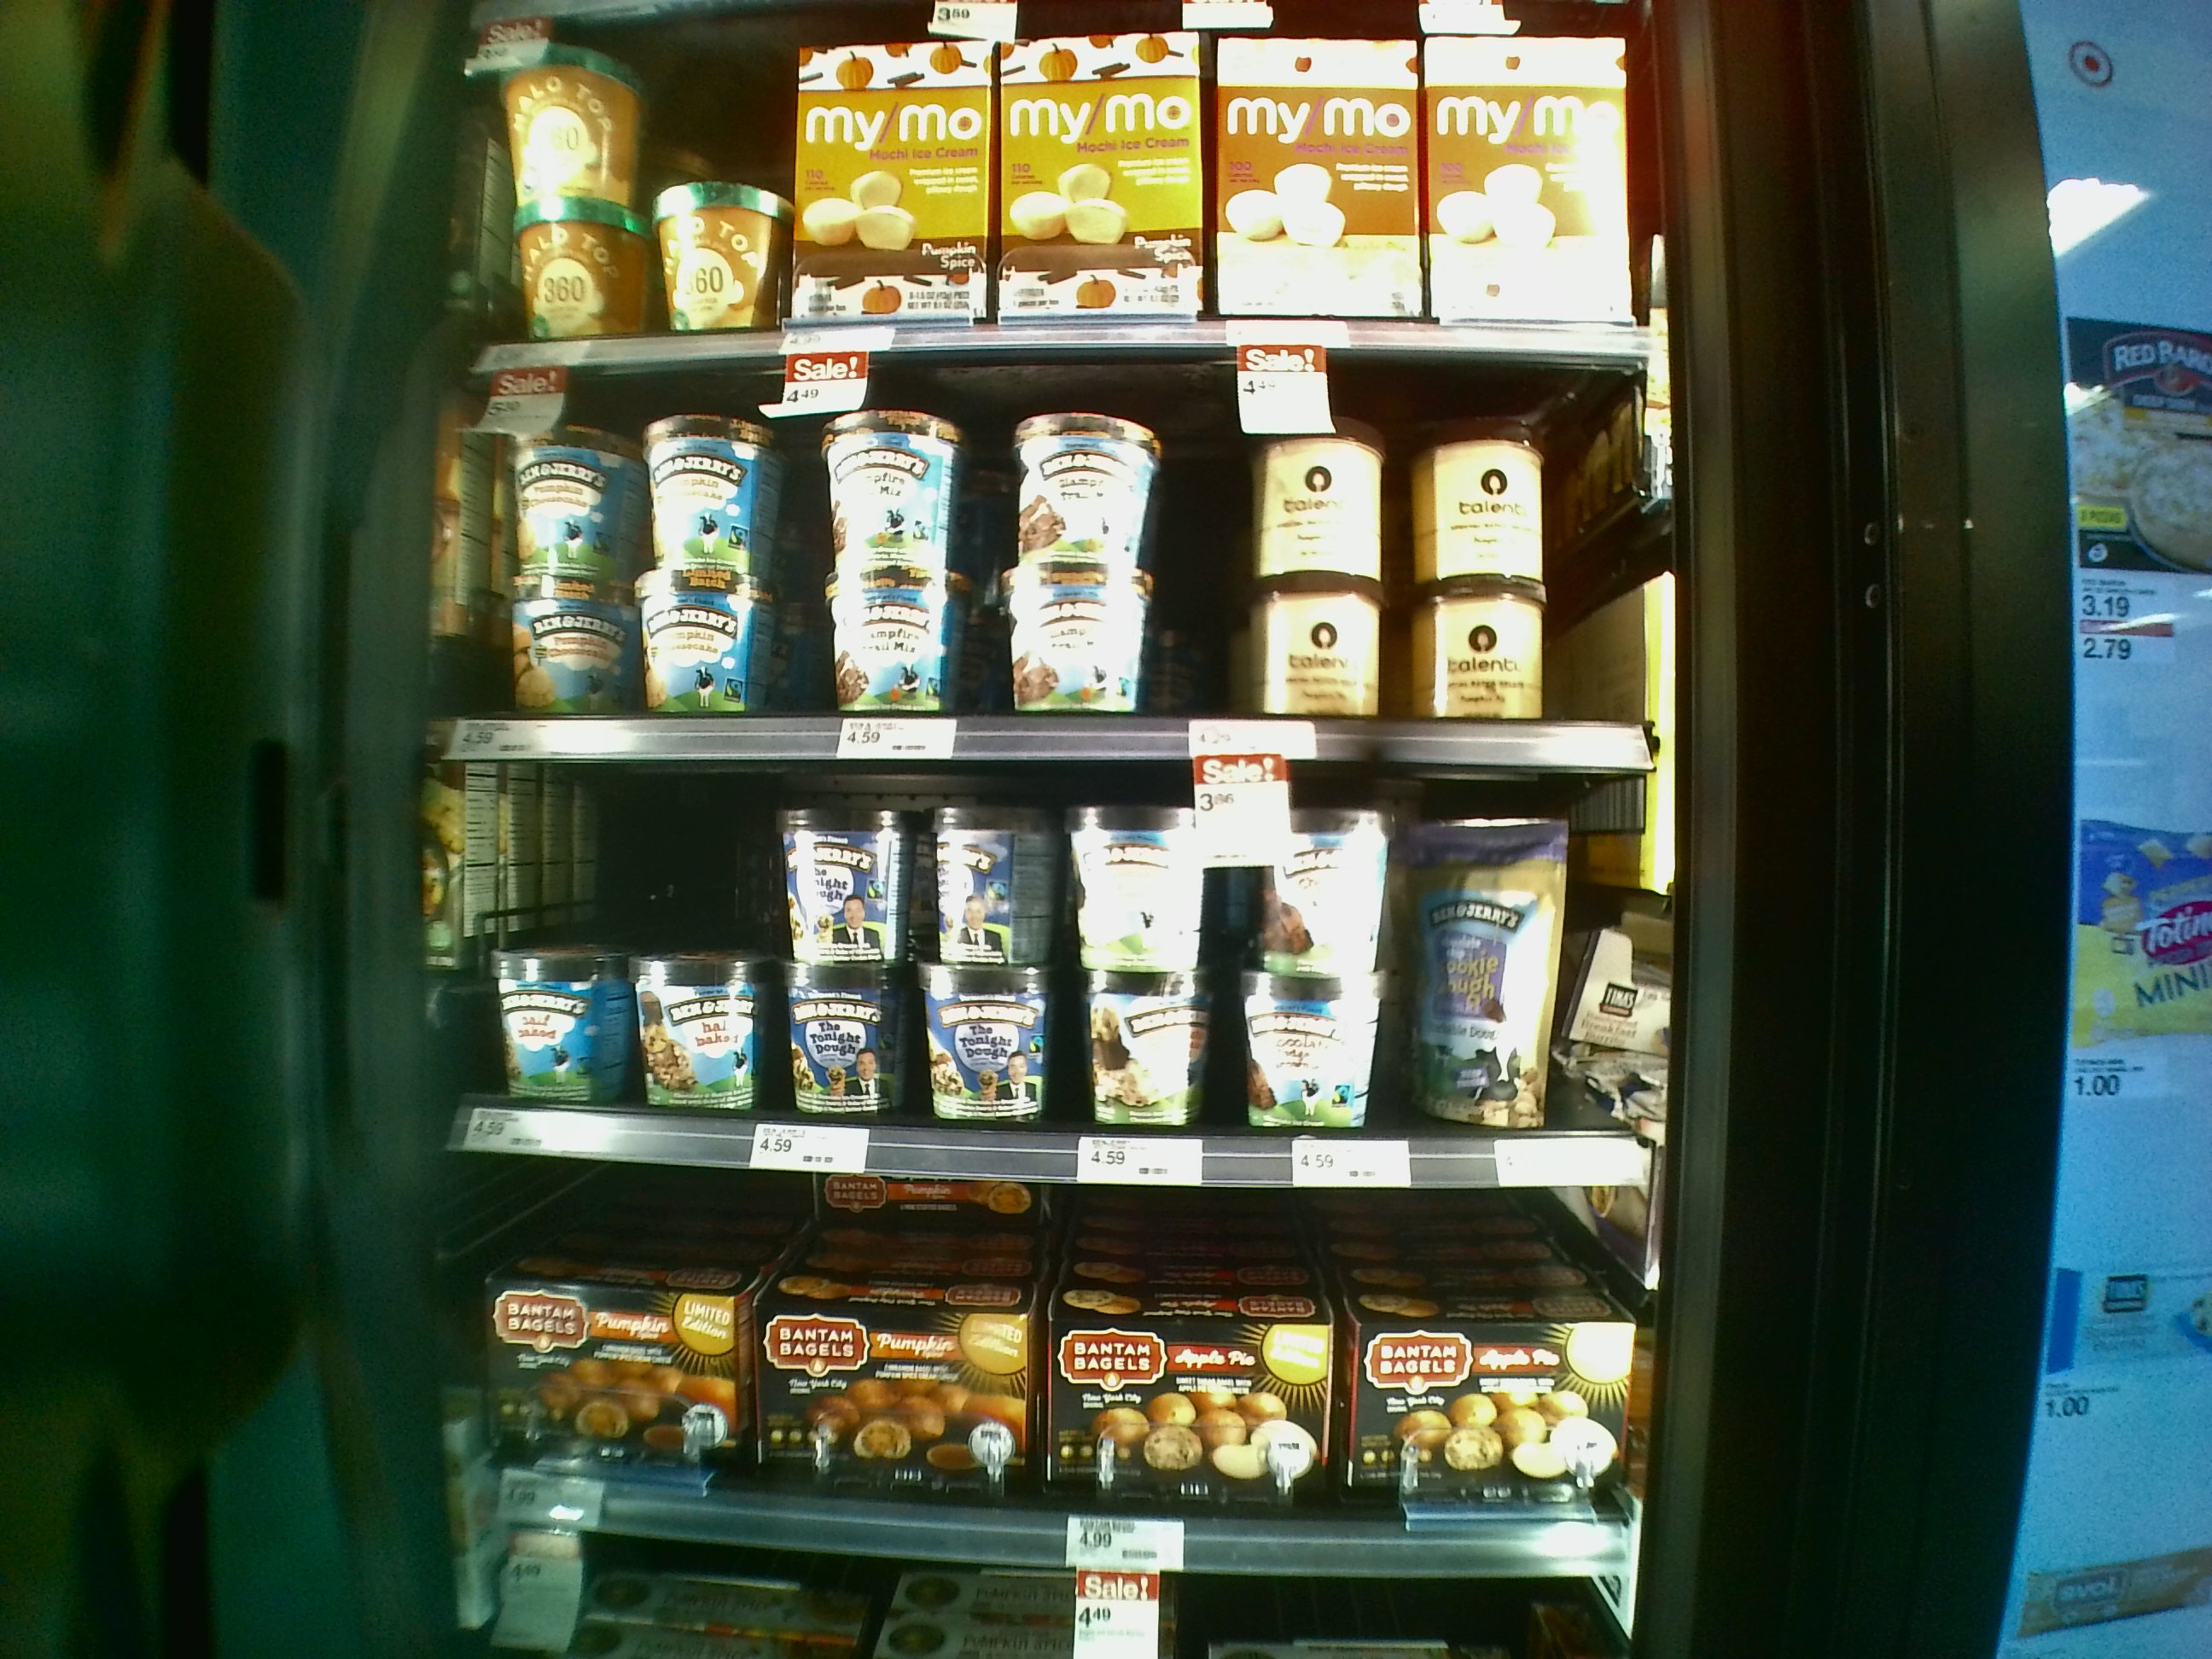shelf: (413, 742, 1674, 1195), (413, 1143, 1646, 1581), (439, 347, 1672, 779)
